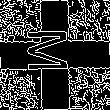M_E: (29, 32, 81, 78)
